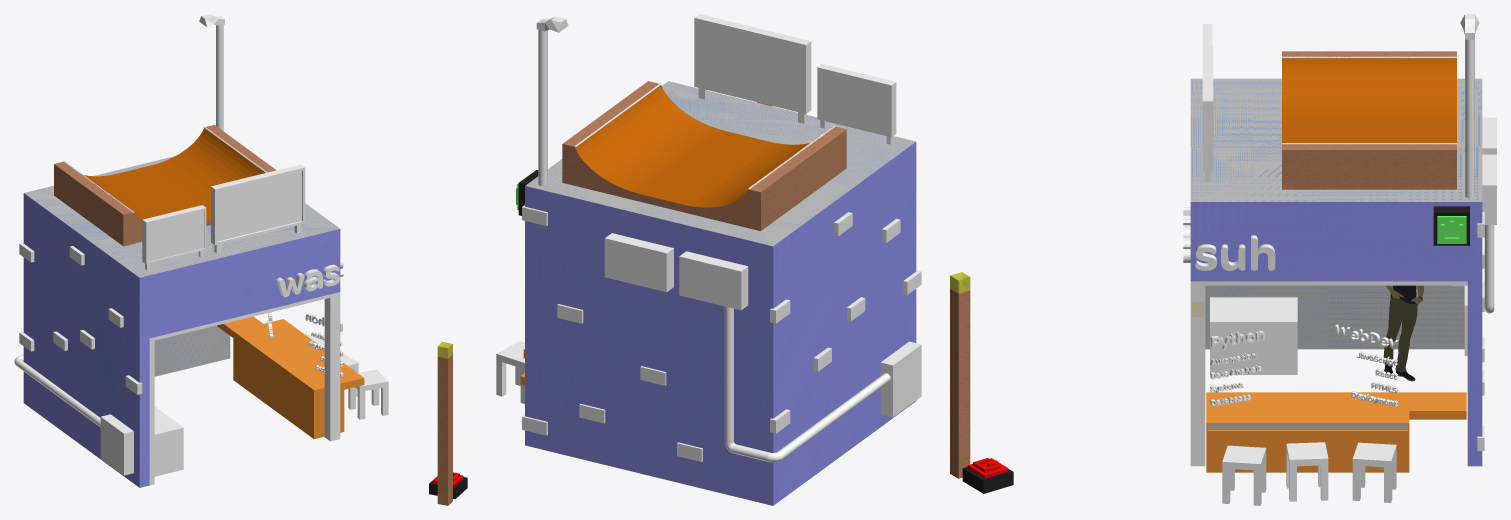
Rendered from hut8.dae.
3 views of the same model, side by side, from view 1: azimuth 30°, elevation 25°; view 2: azimuth 150°, elevation 25°; view 3: azimuth 270°, elevation 25° (orthographic). The views are drawn at different scales.
Visible parts, largest first — view 1: group_0 (×3), group_10 (×2), group_7, group_34 (×2), group_64, group_52, group_15, group_55, group_41, group_62, group_39, group_12 (+3 smaller); view 2: group_0 (×2), group_10 (×2), group_34, group_12, group_39, group_40, group_42, group_41, group_45, group_32; view 3: group_0 (×3), group_10 (×2), group_7, group_55, group_52, group_64, group_62, group_32, group_4, group_6, group_45, Chris (+8 smaller).
Part boxes in pixels (x1,y1,x2,y2): group_0 (×3): (23,156,340,487); group_10 (×2): (54,125,276,246); group_7: (233,319,364,439); group_34 (×2): (211,164,305,245); group_64: (324,292,340,441); group_52: (437,353,452,505); group_15: (148,210,204,261); group_55: (154,406,183,476); group_41: (100,414,133,475); group_62: (348,369,388,419); group_39: (14,355,100,427); group_12: (142,205,206,264); group_0 (×2): (525,81,916,505); group_10 (×2): (562,81,846,231); group_34: (694,14,811,113); group_12: (817,64,896,137); group_39: (724,306,890,462); group_40: (604,233,673,292); group_42: (679,251,748,310); group_41: (880,341,921,417); group_45: (538,30,547,186); group_32: (496,341,524,403); group_0 (×3): (1190,78,1482,466); group_10 (×2): (1282,51,1456,189); group_7: (1206,392,1409,472); group_55: (1210,297,1297,374); group_52: (950,286,970,478); group_64: (1190,281,1205,466); group_62: (1222,445,1266,505); group_32: (1352,442,1396,502); group_4: (1286,442,1328,501); group_6: (1409,392,1466,419); group_45: (1465,39,1474,197); Chris: (1383,297,1417,372).
Size of the model in its own units: 165 by 225 by 198.
23 materials, 4 textured.
